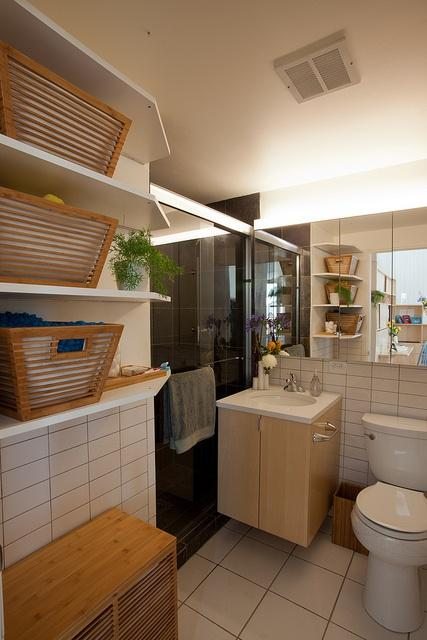Lemari: (214, 406, 309, 550)
